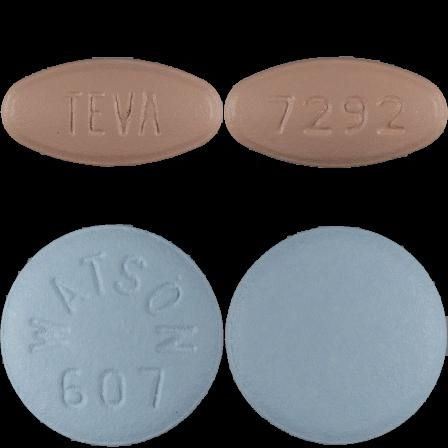16590-992: (0, 0, 224, 224)
